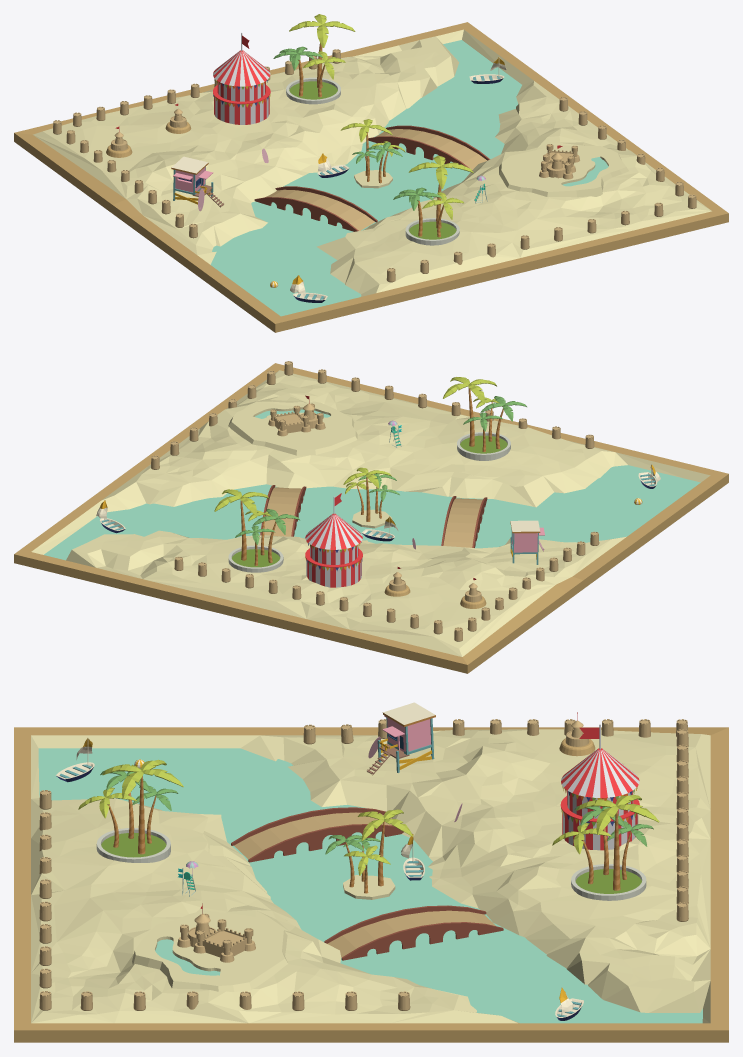
The model's file is Central park.fbx.
3 renders of one model, top to bottom at view 1: azimuth 30°, elevation 25°; view 2: azimuth 150°, elevation 25°; view 3: azimuth 270°, elevation 25°, orthographic. The views are drawn at different scales.
Visible parts, largest first — view 1: Plane.898, Plane.901, Cube.340, Cylinder.013, Cylinder.012, Cylinder.014, Plane.899, Plane.900, Cube.343, Cylinder.015, Cylinder.018, Cylinder.017 (+2 smaller); view 2: Plane.898, Plane.901, Cube.340, Cylinder.013, Cylinder.012, Cylinder.014, Plane.899, Cylinder.016, Plane.900, Cylinder.015, Cylinder.018, Cylinder.017 (+2 smaller); view 3: Plane.898, Plane.901, Cube.340, Plane.900, Cylinder.012, Cylinder.013, Cylinder.014, Plane.899, Cube.343, Cylinder.016, Cylinder.018, Cylinder.017 (+7 smaller).
Part boxes in pixels (x1=…): Plane.898: x1=14, y1=22, x2=728, y2=332; Plane.901: x1=210, y1=40, x2=521, y2=316; Cube.340: x1=499, y1=145, x2=628, y2=197; Cylinder.013: x1=213, y1=32, x2=270, y2=124; Cylinder.012: x1=273, y1=14, x2=355, y2=104; Cylinder.014: x1=393, y1=155, x2=473, y2=245; Plane.899: x1=254, y1=186, x2=377, y2=231; Plane.900: x1=368, y1=125, x2=490, y2=170; Cube.343: x1=171, y1=156, x2=223, y2=211; Cylinder.015: x1=53, y1=120, x2=197, y2=238; Cylinder.018: x1=386, y1=194, x2=696, y2=282; Cylinder.017: x1=340, y1=119, x2=405, y2=183; Plane.898: x1=14, y1=363, x2=728, y2=673; Plane.901: x1=44, y1=465, x2=700, y2=560; Cube.340: x1=228, y1=401, x2=357, y2=455; Cylinder.013: x1=305, y1=493, x2=362, y2=587; Cylinder.012: x1=214, y1=489, x2=299, y2=572; Cylinder.014: x1=443, y1=377, x2=526, y2=460; Plane.899: x1=441, y1=496, x2=487, y2=547; Cylinder.016: x1=174, y1=556, x2=442, y2=634; Plane.900: x1=260, y1=485, x2=306, y2=536; Cylinder.015: x1=454, y1=531, x2=599, y2=641; Cylinder.018: x1=284, y1=361, x2=594, y2=448; Cylinder.017: x1=343, y1=467, x2=399, y2=521; Plane.898: x1=14, y1=727, x2=728, y2=1042; Plane.901: x1=38, y1=748, x2=702, y2=1023; Cube.340: x1=132, y1=910, x2=287, y2=991; Plane.900: x1=324, y1=905, x2=503, y2=960; Cylinder.012: x1=552, y1=794, x2=659, y2=900; Cylinder.013: x1=560, y1=724, x2=639, y2=850; Cylinder.014: x1=78, y1=759, x2=183, y2=862; Plane.899: x1=231, y1=807, x2=403, y2=862; Cube.343: x1=367, y1=702, x2=435, y2=775; Cylinder.016: x1=676, y1=729, x2=688, y2=921; Cylinder.018: x1=39, y1=790, x2=51, y2=1010; Cylinder.017: x1=325, y1=809, x2=412, y2=893.
Bounding box in the file's own units: 12394 × 2601 × 12357.
Materials: 12 (10 with a texture image).
